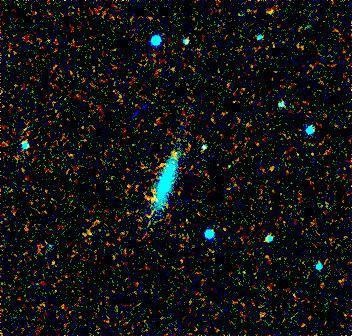star: (159, 53, 189, 83)
